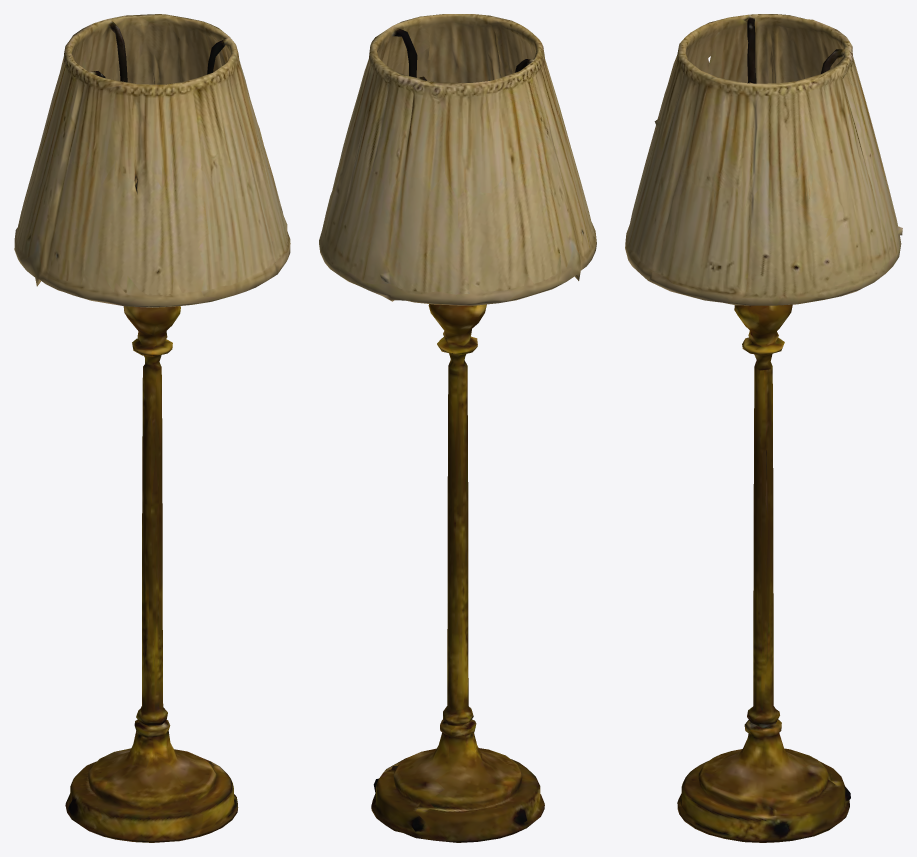
Rendered from lamp.glb.
The picture shows the model from 3 angles, left to right: view 1: azimuth 30°, elevation 25°; view 2: azimuth 150°, elevation 25°; view 3: azimuth 270°, elevation 25°; orthographic projection.
Parts seen in each view (by area): view 1: tripo_node_1f43b0c1-7217-4f7b-a30a-16350bb1965e; view 2: tripo_node_1f43b0c1-7217-4f7b-a30a-16350bb1965e; view 3: tripo_node_1f43b0c1-7217-4f7b-a30a-16350bb1965e.
Boxes of the visible parts, <box> form: tripo_node_1f43b0c1-7217-4f7b-a30a-16350bb1965e: <box>14,14,290,842</box>; tripo_node_1f43b0c1-7217-4f7b-a30a-16350bb1965e: <box>319,14,596,842</box>; tripo_node_1f43b0c1-7217-4f7b-a30a-16350bb1965e: <box>625,14,902,842</box>.
Bounding box in the file's own units: 0.328 × 1 × 0.3321.
1 material, 1 textured.
